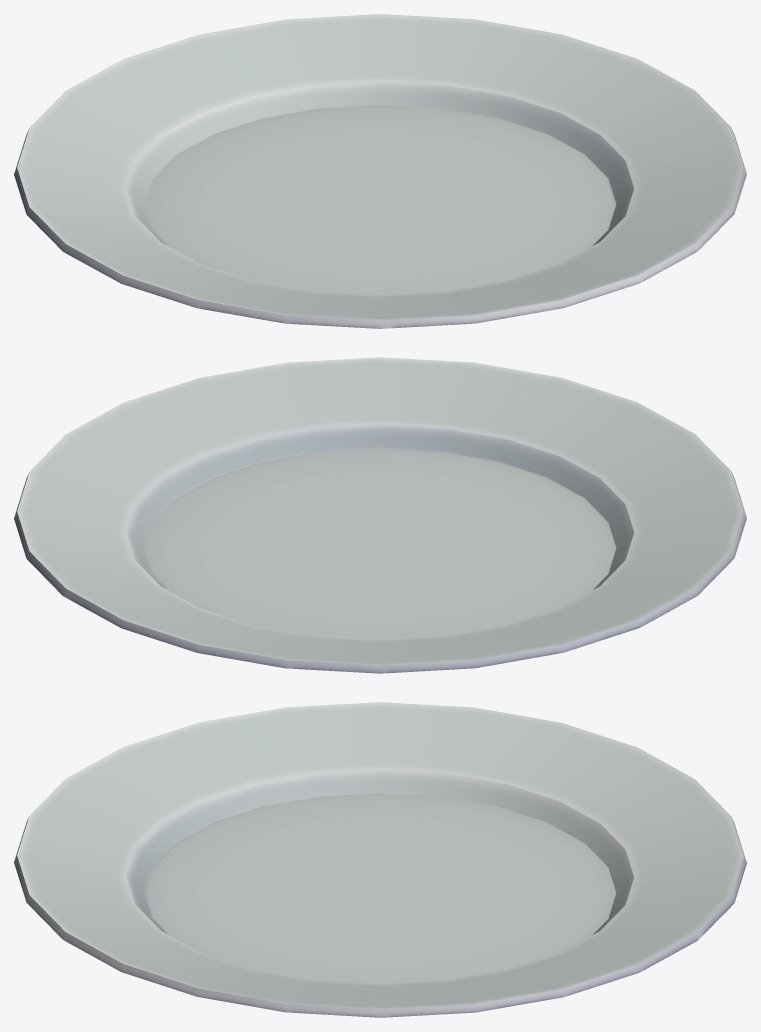
The model's file is plate.fbx.
The picture shows the model from 3 angles, top to bottom: view 1: azimuth 30°, elevation 25°; view 2: azimuth 150°, elevation 25°; view 3: azimuth 270°, elevation 25°; orthographic projection.
Visible parts, largest first — view 1: Plate; view 2: Plate; view 3: Plate.
Part boxes in pixels (bbox=[...]): Plate: bbox=[14, 14, 746, 328]; Plate: bbox=[14, 357, 746, 673]; Plate: bbox=[14, 702, 746, 1017].
Size of the model in its own units: 150 by 11.04 by 150.
